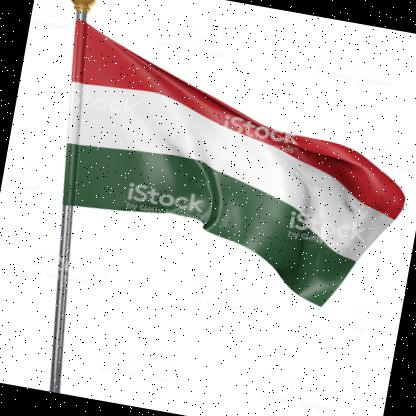hu: (35, 19, 416, 322)
